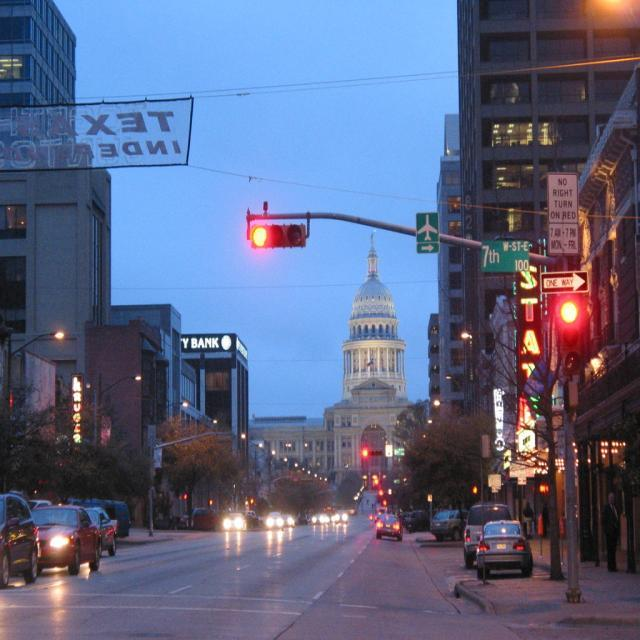traffic light: (557, 299, 582, 379), (247, 222, 308, 249)
